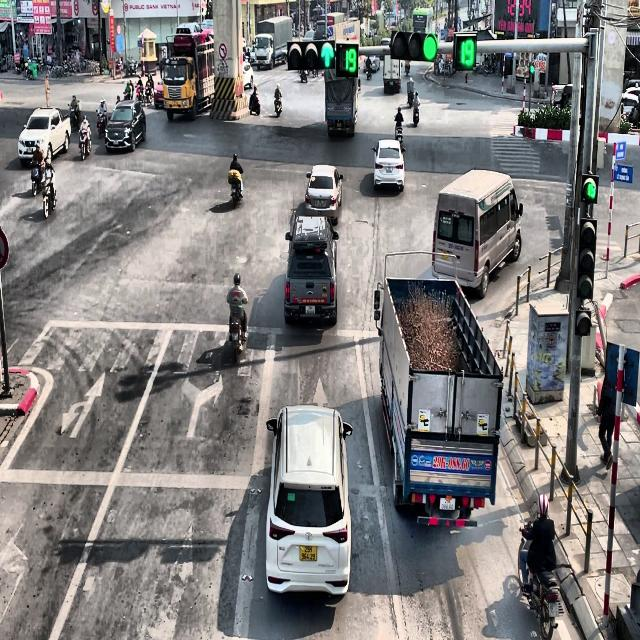lisence_plate: (410, 450, 492, 476), (298, 544, 318, 562), (438, 495, 456, 511), (449, 240, 465, 252), (304, 304, 316, 315), (440, 251, 450, 261), (315, 199, 325, 208), (334, 105, 344, 112), (386, 166, 394, 174), (337, 123, 342, 128), (390, 80, 394, 86)
